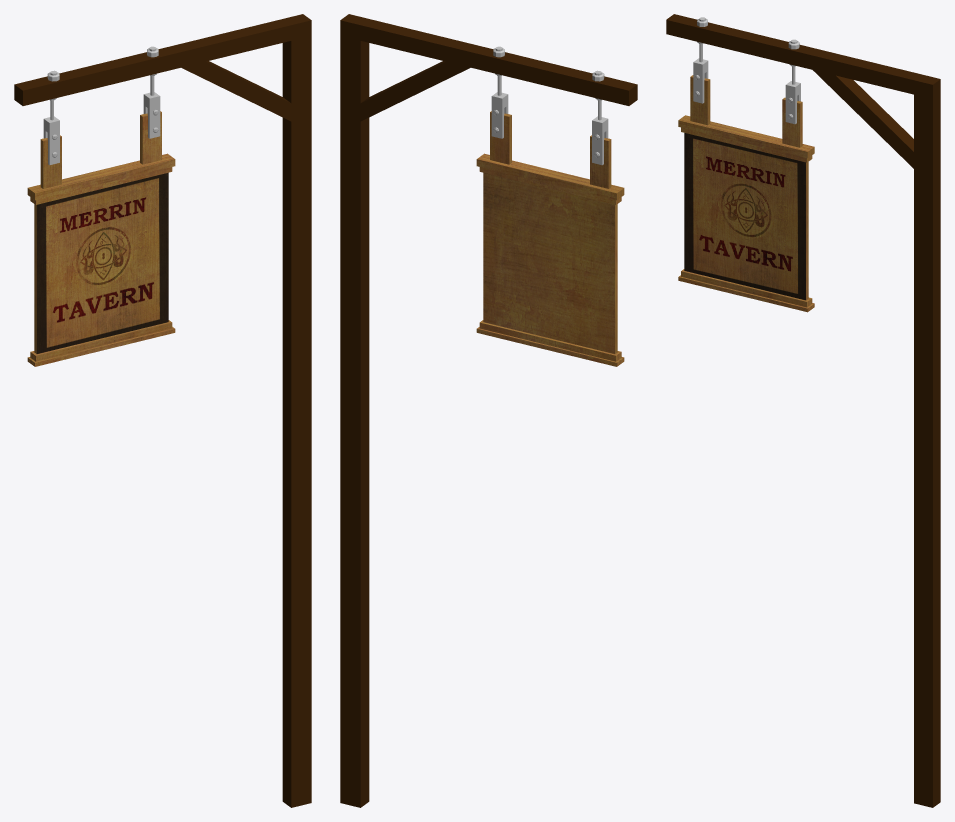
Rendered from Tavern_sign.fbx.
3 views of the same model, side by side, from view 1: azimuth 30°, elevation 25°; view 2: azimuth 150°, elevation 25°; view 3: azimuth 330°, elevation 25° (orthographic). The views are drawn at different scales.
Visible parts, largest first — view 1: signhold, sign, sign_hold_crossbar, sign_bolts, sign_bolts1; view 2: signhold, sign, sign_hold_crossbar, sign_bolts, sign_bolts1; view 3: signhold, sign, sign_hold_crossbar, sign_bolts1, sign_bolts.
Boxes of the visible parts, box(x1,y1,x2,y2) form: signhold: box(14, 14, 311, 807); sign: box(27, 111, 175, 366); sign_hold_crossbar: box(181, 61, 291, 121); sign_bolts: box(143, 92, 160, 138); sign_bolts1: box(43, 116, 59, 165); signhold: box(340, 14, 637, 807); sign: box(476, 111, 624, 366); sign_hold_crossbar: box(360, 61, 470, 121); sign_bolts: box(491, 92, 508, 138); sign_bolts1: box(592, 116, 608, 165); signhold: box(666, 14, 940, 807); sign: box(678, 75, 814, 312); sign_hold_crossbar: box(813, 70, 913, 168); sign_bolts1: box(693, 58, 708, 103); sign_bolts: box(785, 81, 800, 124).
Size of the model in its own units: 6.54 by 17.09 by 0.3368.
